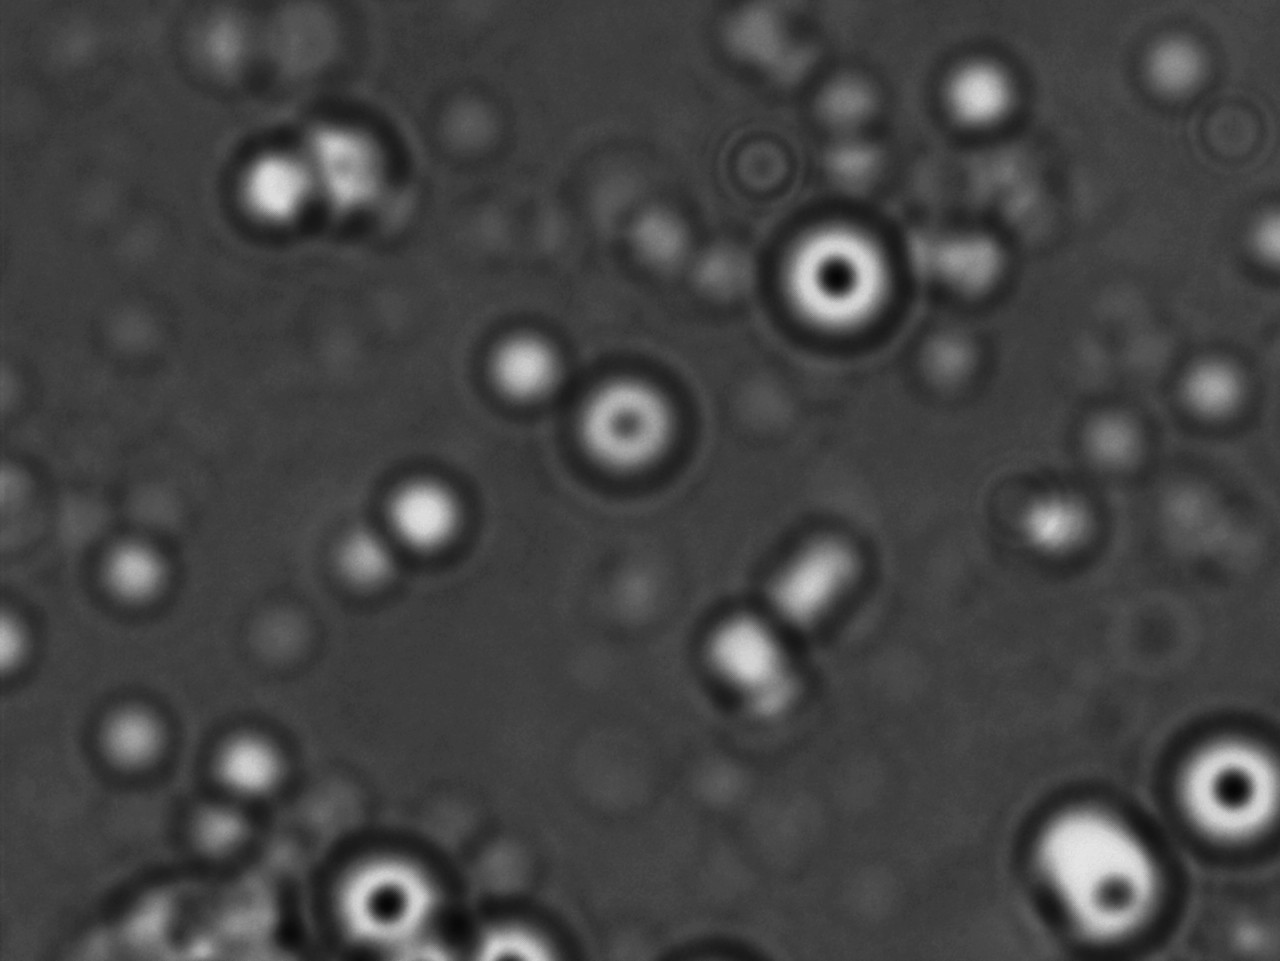depth:24: (750, 185, 920, 357)
depth:32: (314, 794, 482, 956), (560, 345, 717, 505), (1160, 701, 1280, 856)
